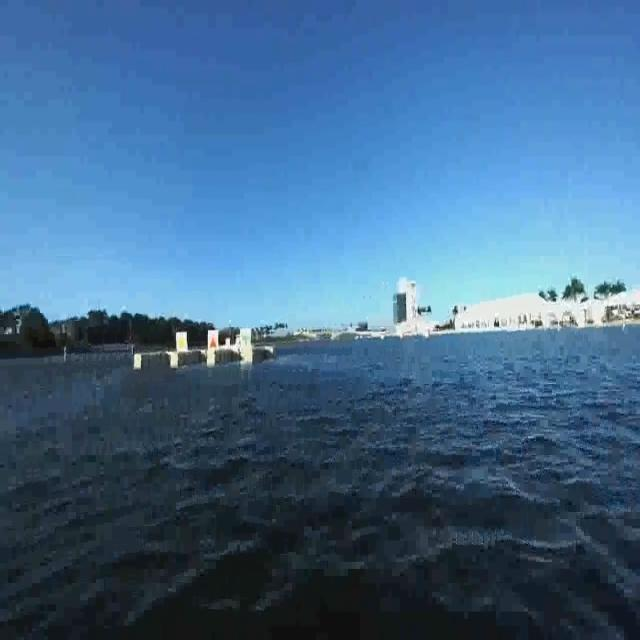red-dot: (209, 330, 219, 350)
yellow-duck: (177, 335, 187, 349)
